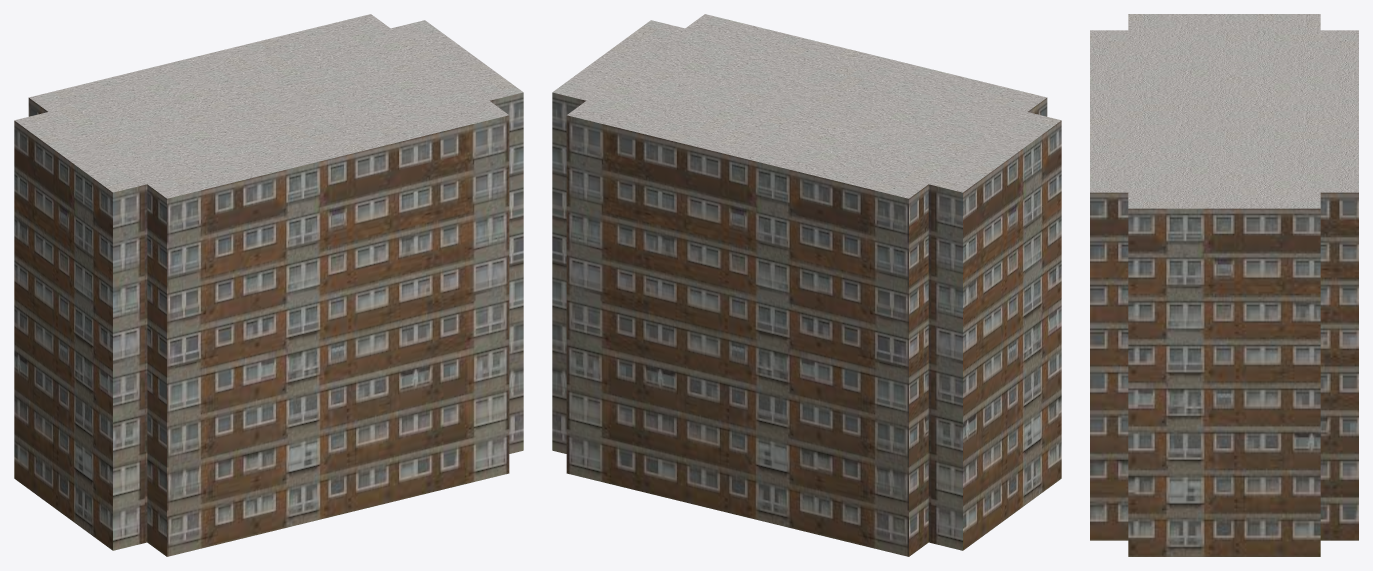
File: building_032.glb
The picture shows the model from 3 angles, left to right: view 1: azimuth 30°, elevation 25°; view 2: azimuth 150°, elevation 25°; view 3: azimuth 270°, elevation 25°; orthographic projection. The views are drawn at different scales.
Parts seen in each view (by area): view 1: building_032.001; view 2: building_032.001; view 3: building_032.001.
Boxes of the visible parts, box(x1,y1,x2,y2) form: building_032.001: box(14, 14, 523, 556); building_032.001: box(552, 14, 1061, 556); building_032.001: box(1090, 14, 1358, 556).
Size of the model in its own units: 18 by 15 by 10.5.
2 materials, 2 textured.
